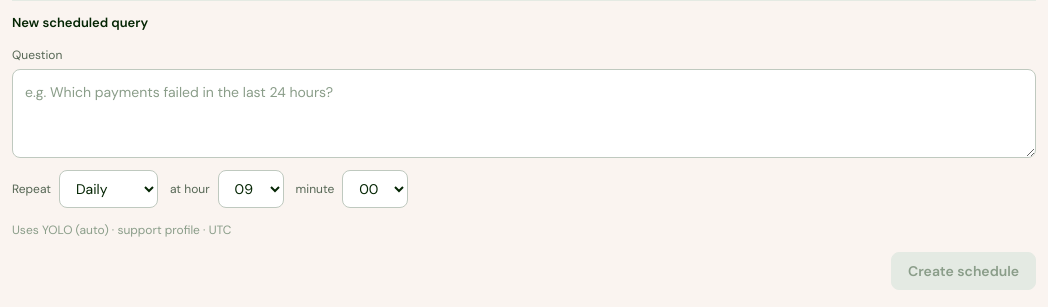
Test: ScheduleForm › only asks for the minute of an hourly schedule
The width and height of the screenshot is (1048, 307).
Select "Hourly" in the dropdown labelled "Repeat" at (108, 189), box [59,170,158,208]
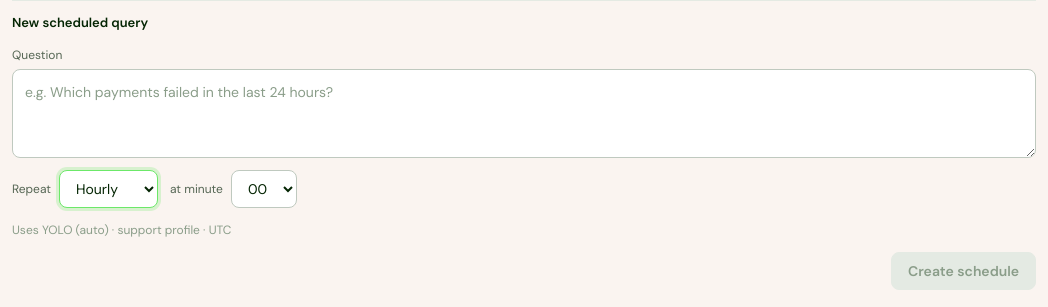
Expected: the dropdown labelled "at minute" is shown, [231,170,297,208]
Result: the label labelled "at hour" is gone
